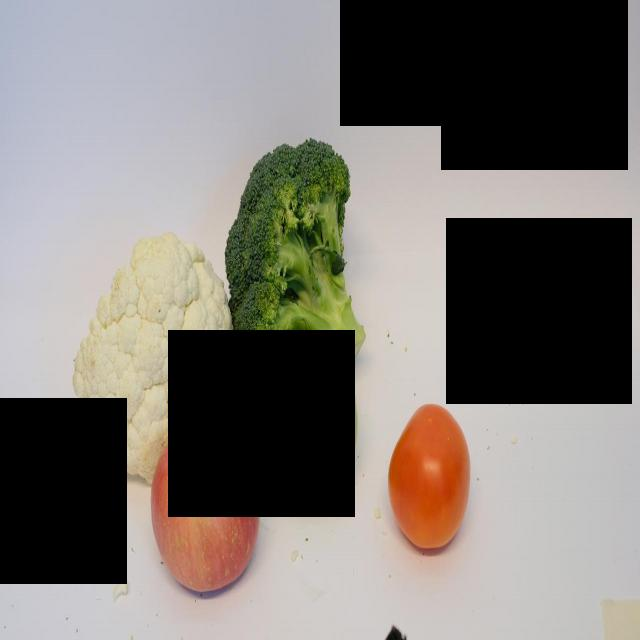apple: (152, 418, 261, 598), (263, 336, 359, 500)
broccoli: (215, 120, 362, 365)
cauliflower: (80, 225, 230, 492)
tomato: (385, 396, 470, 560)
